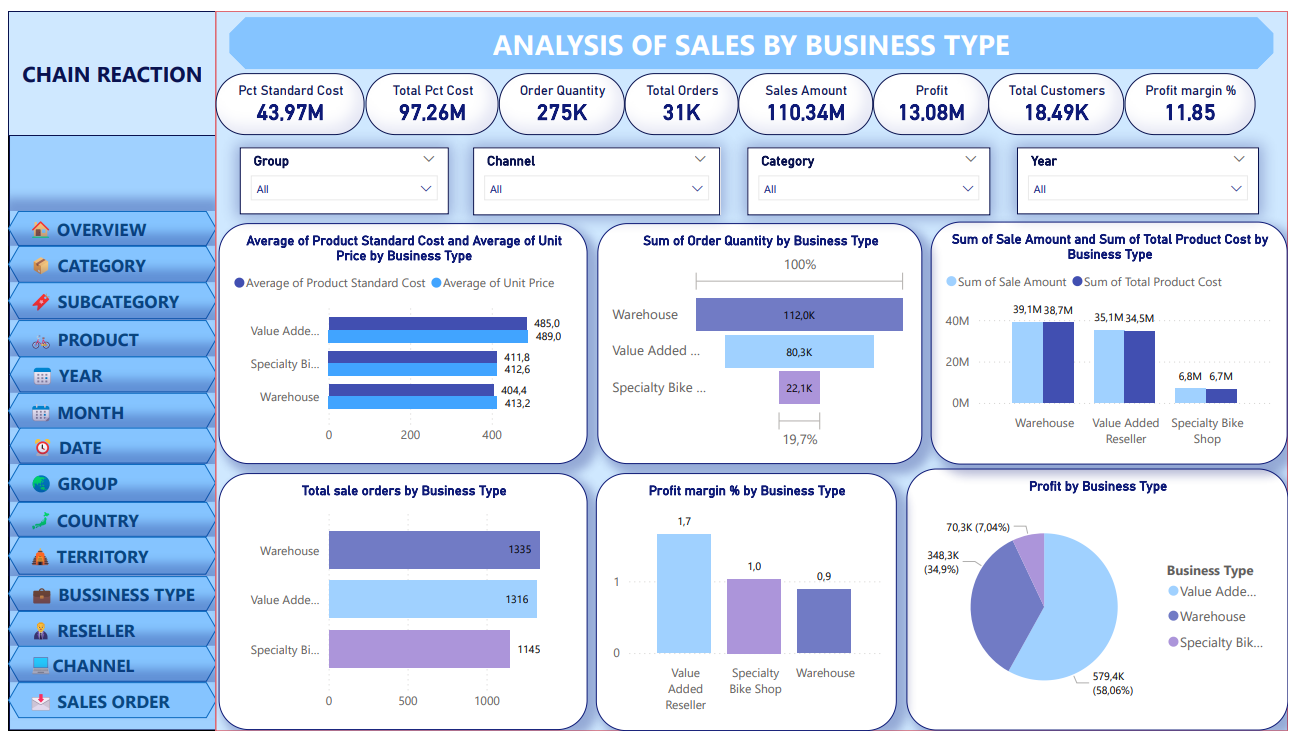

Layout of this report page (visuals, bound fields, positions):
{"tool":"powerbi","page":{"name":"Business Type","canvas":[1280,720],"ordinal":1},"visuals":[{"type":"shape","box":[0,0,209.9,720.4],"z":0},{"type":"shape","box":[0,199.4,208.6,35],"z":1000},{"type":"shape","box":[0,234.3,209,37],"z":2000},{"type":"shape","box":[0,271.3,209,37],"z":3000},{"type":"shape","box":[0,308.3,209,37],"z":4000},{"type":"shape","box":[1,345.3,208,36],"z":5000},{"type":"shape","box":[0,381.3,209,36],"z":6000},{"type":"shape","box":[1,417.3,208,36],"z":7000},{"type":"shape","box":[0,453.3,208,38],"z":8000},{"type":"shape","box":[0,491.3,209,35],"z":9000},{"type":"shape","box":[0,526.3,209,38],"z":10000},{"type":"shape","box":[0,564.3,209,35],"z":11000},{"type":"shape","box":[0,599.3,209,36],"z":12000},{"type":"shape","box":[0,635.3,209,36],"z":13000},{"type":"shape","box":[0,671.3,209,36],"z":14000},{"type":"shape","title":"dbdbdjb","box":[235.7,0,1044.3,52.1],"z":15000},{"type":"shape","box":[0.4,0,209.1,124.7],"z":16000},{"type":"shape","box":[207.6,0,1072.4,720.2],"z":17000},{"type":"card","title":"Order Quantity","fields":{"Values":["Sum(Sales.Order Quantity)"]},"box":[490.4,62.4,126,62.4],"z":18000},{"type":"card","title":"Pct Standard Cost","fields":{"Values":["Sum(Sales.Product Standard Cost)"]},"box":[207.9,62.4,149.2,62.4],"z":19000},{"type":"card","title":"Sales Amount","fields":{"Values":["Sum(Sales.Sale Amount)"]},"box":[730,62.4,134.5,62.4],"z":20000},{"type":"card","title":"Profit","fields":{"Values":["Sales.Profit"]},"box":[864.5,62.4,116.2,62.4],"z":21000},{"type":"card","title":"Total Pct Cost","fields":{"Values":["Sum(Sales.Total Product Cost)"]},"box":[357.1,62.4,133.3,62.4],"z":22000},{"type":"card","title":"Total Orders","fields":{"Values":["Sales.Total sale orders"]},"box":[616.3,62.4,113.7,62.4],"z":23000},{"type":"card","title":"Total Customers","fields":{"Values":["Count(Customer.Customer ID)"]},"box":[980.7,62.4,135.7,62.4],"z":24000},{"type":"card","title":"Profit margin %","fields":{"Values":["Sales.Profit margin"]},"box":[1116.4,62.4,130.8,62.4],"z":25000},{"type":"shape","title":"dbdbdjb","box":[221.1,5.6,1044.4,52.2],"z":26000},{"type":"clusteredBarChart","fields":{"Category":["Business Type.Business Type"],"Y":["Avg(Sales.Product Standard Cost)","Avg(Sales.Unit Price)"]},"box":[210.3,212.8,369.3,240.9],"z":27000},{"type":"pieChart","fields":{"Category":["Business Type.Business Type"],"Y":["Sales.Profit"]},"box":[898.8,457.3,381.5,261.7],"z":28000},{"type":"clusteredColumnChart","fields":{"Category":["Business Type.Business Type"],"Y":["Sum(Sales.Sale Amount)","Sum(Sales.Total Product Cost)"]},"box":[923.2,210.3,357.1,243.3],"z":29000},{"type":"funnel","fields":{"Category":["Business Type.Business Type"],"Y":["Sum(Sales.Order Quantity)"]},"box":[589.4,212.8,325.3,240.9],"z":30000},{"type":"slicer","title":"Date","fields":{"Values":["Date.Year"]},"box":[1009.6,135.9,242,66.8],"z":31000},{"type":"slicer","title":"Category","fields":{"Values":["Category.Category"]},"box":[739.1,135.9,243.2,67.9],"z":32000},{"type":"slicer","title":"Channel","fields":{"Values":["Channel.Channel"]},"box":[464.9,137.1,246.7,67.9],"z":33000},{"type":"slicer","title":"Group","fields":{"Values":["Group.Group"]},"box":[231.3,137.1,208.6,66.8],"z":34000},{"type":"clusteredBarChart","fields":{"Category":["Business Type.Business Type"],"Y":["Sales.Total sale orders"]},"box":[210.3,462.2,369.3,256.8],"z":35000},{"type":"clusteredColumnChart","title":"Profit margin % by Business Type","fields":{"Y":["Sales.Profit margin"],"Category":["Business Type.Business Type"]},"box":[588.2,462.2,300.8,258],"z":36000}]}

Visuals, with their boxes in screenshot pixels (x1, y1, x2, y2), scaled from the page's 1280x720 canvas onto the 1293x740 screenshot:
shape: (0,0,212,739)
shape: (0,205,211,241)
shape: (0,241,211,279)
shape: (0,279,211,317)
shape: (0,317,211,355)
shape: (1,355,211,392)
shape: (0,392,211,429)
shape: (1,429,211,466)
shape: (0,466,210,505)
shape: (0,505,211,541)
shape: (0,541,211,580)
shape: (0,580,211,616)
shape: (0,616,211,653)
shape: (0,653,211,690)
shape: (0,690,211,727)
"dbdbdjb" shape: (238,0,1292,54)
shape: (0,0,212,128)
shape: (210,0,1292,739)
"Order Quantity" card: (495,64,623,128)
"Pct Standard Cost" card: (210,64,361,128)
"Sales Amount" card: (737,64,873,128)
"Profit" card: (873,64,991,128)
"Total Pct Cost" card: (361,64,495,128)
"Total Orders" card: (623,64,737,128)
"Total Customers" card: (991,64,1128,128)
"Profit margin %" card: (1128,64,1260,128)
"dbdbdjb" shape: (223,6,1278,59)
clusteredBarChart - Business Type.Business Type x Avg(Sales.Product Standard Cost): (212,219,585,466)
pieChart - Business Type.Business Type x Sales.Profit: (908,470,1292,739)
clusteredColumnChart - Business Type.Business Type x Sum(Sales.Sale Amount): (933,216,1292,466)
funnel - Business Type.Business Type x Sum(Sales.Order Quantity): (595,219,924,466)
"Date" slicer: (1020,140,1264,208)
"Category" slicer: (747,140,992,209)
"Channel" slicer: (470,141,719,211)
"Group" slicer: (234,141,444,210)
clusteredBarChart - Business Type.Business Type x Sales.Total sale orders: (212,475,585,739)
"Profit margin % by Business Type" clusteredColumnChart: (594,475,898,739)
